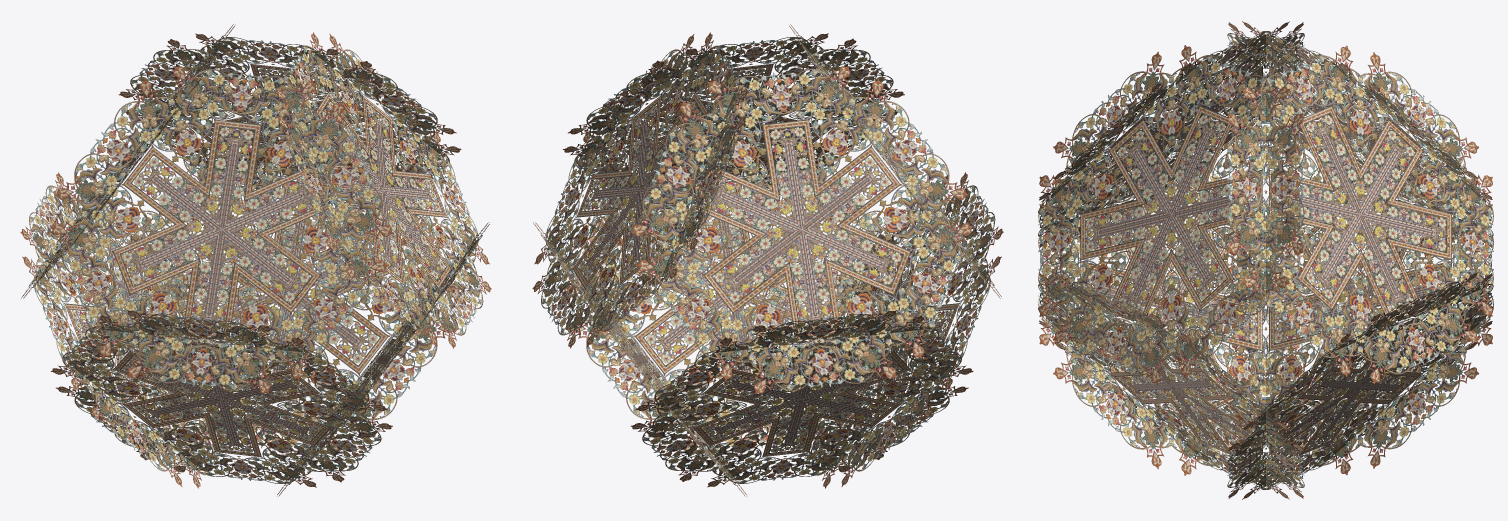
File: CubitruncatedCuboctahedron10.gltf
3 renders of one model, left to right at view 1: azimuth 30°, elevation 25°; view 2: azimuth 150°, elevation 25°; view 3: azimuth 270°, elevation 25°, orthographic.
Visible parts, largest first — view 1: CubitruncatedCuboctahedron; view 2: CubitruncatedCuboctahedron; view 3: CubitruncatedCuboctahedron.
Boxes of the visible parts, x1,y1,x2,y2 form: CubitruncatedCuboctahedron: (20,24,491,496); CubitruncatedCuboctahedron: (532,24,1003,496); CubitruncatedCuboctahedron: (1038,21,1493,499).
Bounding box in the file's own units: 2.41 × 2.41 × 2.41.
1 material, 1 textured.
